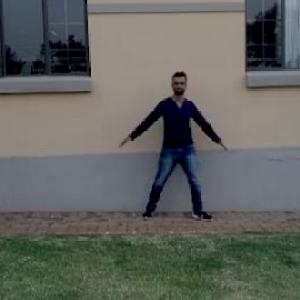land: (118, 75, 223, 236)
